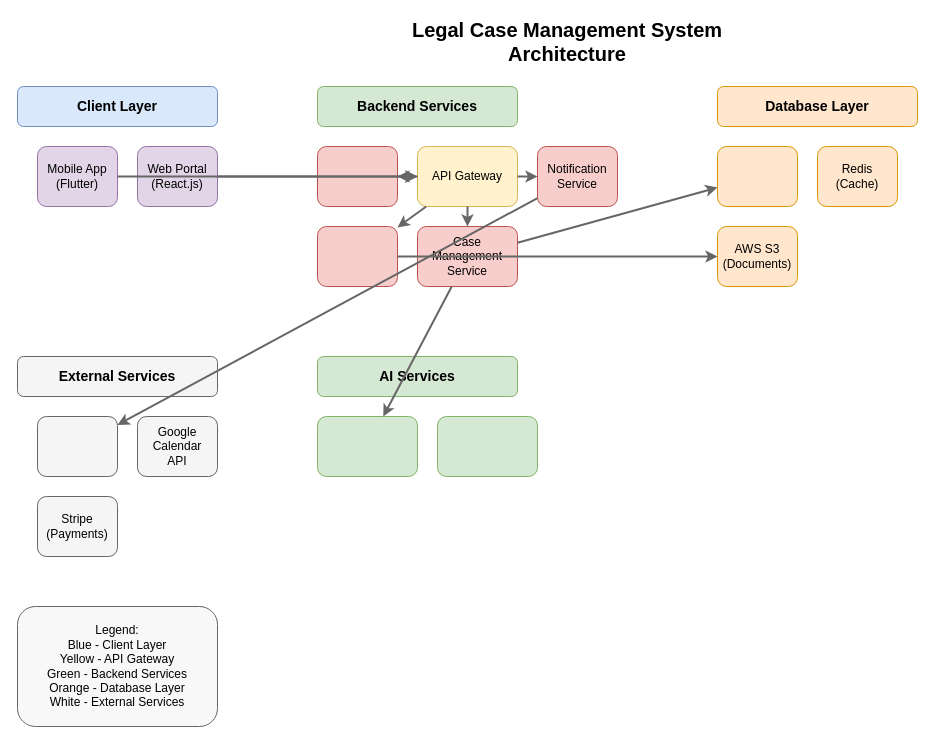
This 935x744 diagram has some shape labels left out. Each missing label, with the centre of its shape:
Authentication Service: (357,176)
Document Service: (357,256)
OCR Service (Document Processing): (487,446)
OpenAI API (Case Analysis): (367,446)
PostgreSQL (Main DB): (757,176)
SendGrid (Email): (77,446)
